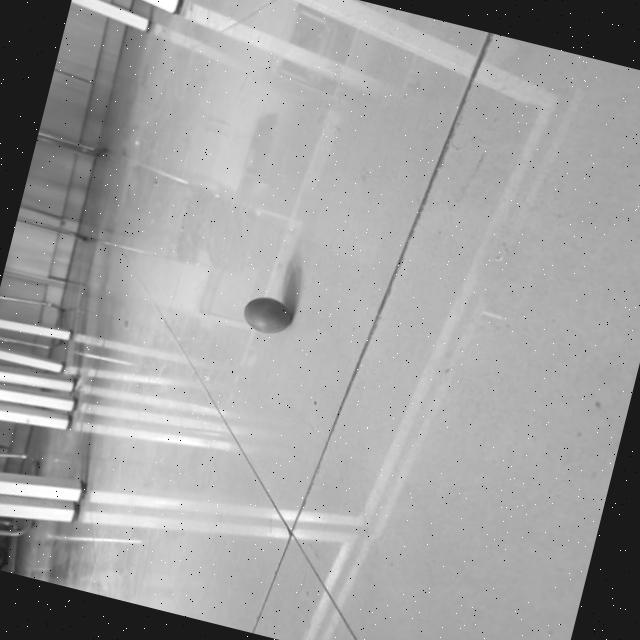ping-pong-ball: (237, 291, 294, 339)
